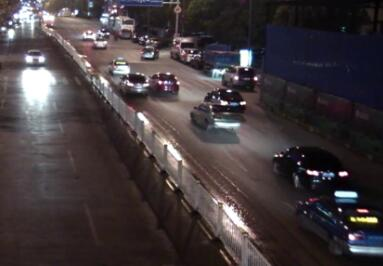bus: (110, 16, 136, 36)
car: (301, 190, 380, 257), (271, 142, 351, 192), (190, 102, 241, 133), (219, 64, 261, 87), (203, 88, 245, 110), (116, 71, 149, 97), (149, 71, 180, 95), (174, 32, 195, 56), (183, 42, 204, 63), (108, 56, 128, 74), (23, 47, 45, 63), (140, 44, 157, 59), (92, 35, 106, 49), (81, 30, 97, 39)
